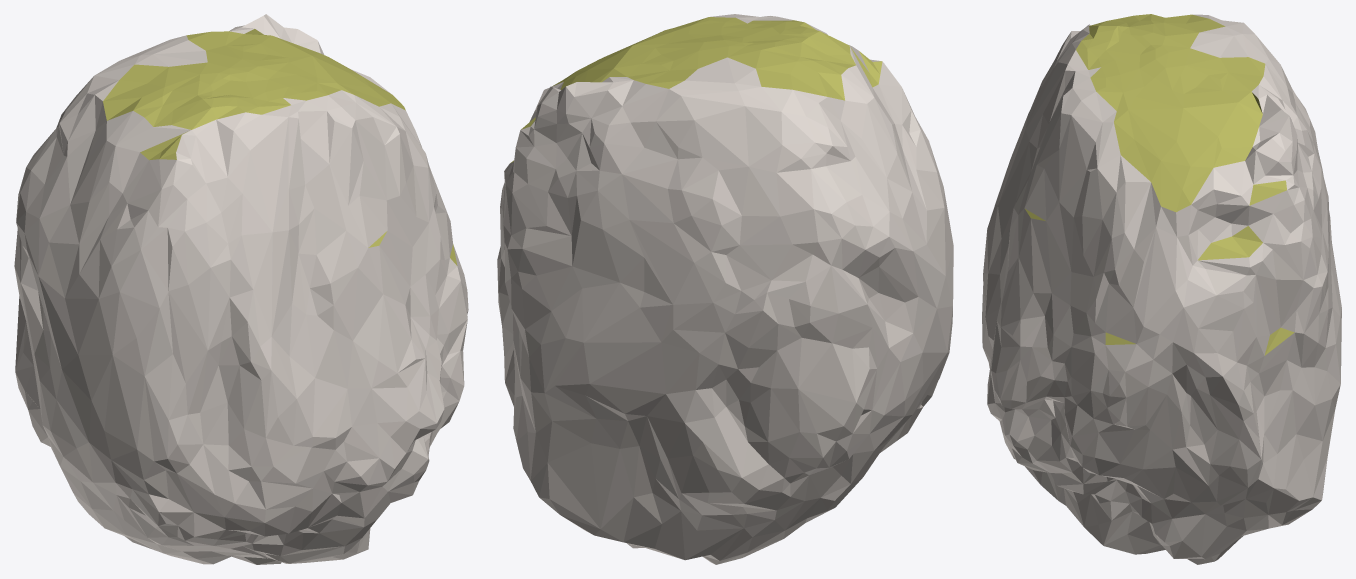
Rendered from mountain1.fbx.
The picture shows the model from 3 angles, left to right: view 1: azimuth 30°, elevation 25°; view 2: azimuth 150°, elevation 25°; view 3: azimuth 270°, elevation 25°; orthographic projection. The views are drawn at different scales.
Visible parts, largest first — view 1: mountain1_LOD0; view 2: mountain1_LOD0; view 3: mountain1_LOD0.
Boxes of the visible parts, box(x1,y1,x2,y2) form: mountain1_LOD0: box(14, 14, 468, 564); mountain1_LOD0: box(497, 14, 953, 564); mountain1_LOD0: box(982, 14, 1341, 564).
Size of what is drawn, in the model's own units: 4343 by 5322 by 3620.
